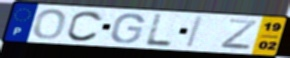C: (66, 9, 106, 43)
G: (109, 13, 146, 45)
I: (184, 15, 206, 49)
L: (143, 13, 174, 48)
O: (32, 8, 68, 41)
Z: (218, 18, 260, 52)
